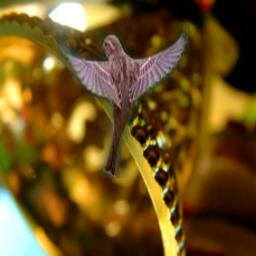Sparrow: (57, 24, 190, 178)
